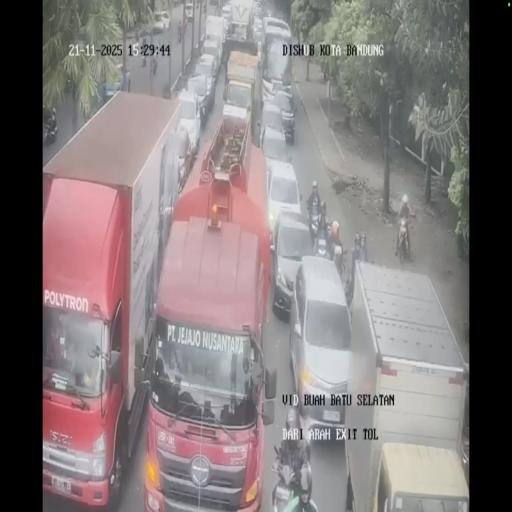3: (41, 92, 187, 508), (338, 259, 467, 510)
car: (270, 208, 314, 318), (258, 102, 288, 158), (168, 124, 190, 192), (186, 71, 213, 125), (102, 63, 126, 105), (262, 16, 291, 47), (200, 38, 221, 78), (154, 10, 170, 32), (252, 17, 264, 46), (220, 2, 232, 29), (251, 0, 263, 19), (185, 4, 193, 19)
truck: (394, 216, 414, 265), (330, 240, 346, 280), (307, 206, 320, 246), (44, 112, 57, 144), (82, 98, 94, 121), (65, 75, 73, 93), (177, 26, 182, 44)
